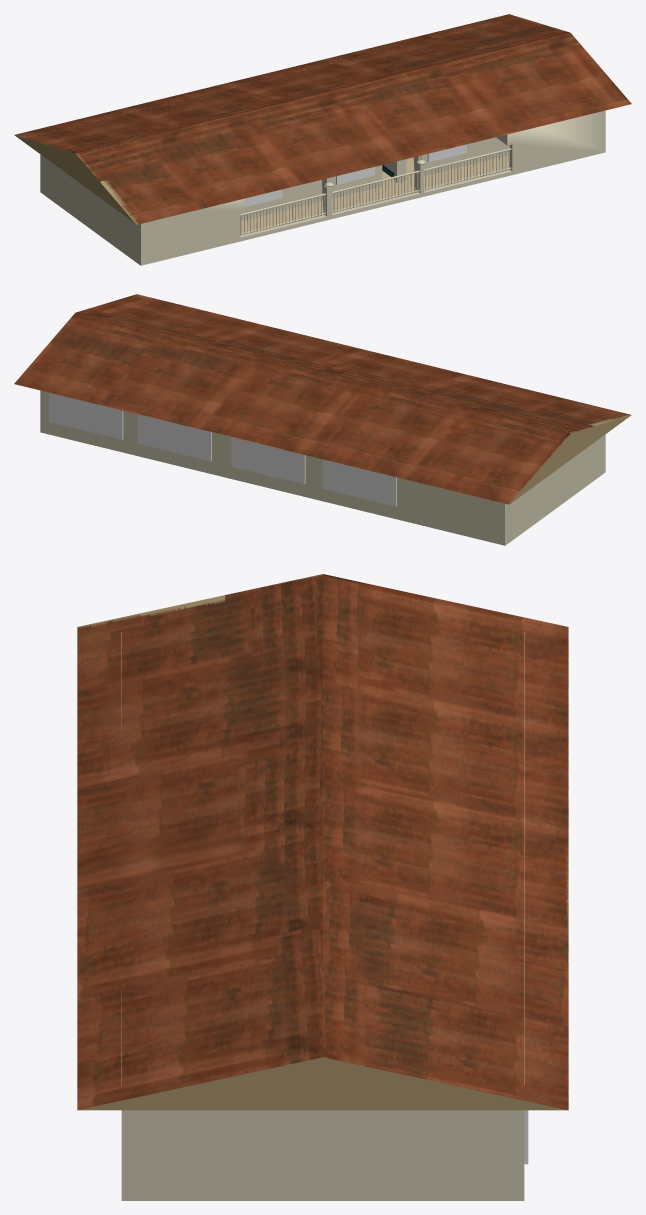
Rendered from 4TH_FLR.fbx.
The picture shows the model from 3 angles, top to bottom: view 1: azimuth 30°, elevation 25°; view 2: azimuth 150°, elevation 25°; view 3: azimuth 270°, elevation 25°; orthographic projection. The views are drawn at different scales.
Parts seen in each view (by area): view 1: Roof, Wall.066, Fence, Wall.065, Hallway Plane, Wall.060, Wall.061, Wall.063, WindowHole.002, WindowHole; view 2: Roof, Wall.067, WindowHole.004, Wall.065; view 3: Roof, Wall.064, Wall.067, Wall.066.
Boxes of the visible parts, box(x1,y1,x2,y2) form: Roof: box(14, 14, 631, 224); Wall.066: box(138, 110, 605, 265); Fence: box(240, 148, 511, 235); Wall.065: box(43, 156, 138, 263); Hallway Plane: box(241, 160, 502, 232); Wall.060: box(403, 137, 509, 180); Wall.061: box(310, 161, 398, 203); Wall.063: box(240, 183, 306, 220); WindowHole.002: box(427, 144, 466, 162); WindowHole: box(336, 167, 375, 184); Roof: box(14, 294, 631, 504); Wall.067: box(40, 390, 507, 545); WindowHole.004: box(49, 392, 396, 506); Wall.065: box(507, 436, 602, 543); Roof: box(77, 574, 568, 1110); Wall.064: box(132, 1110, 513, 1200); Wall.067: box(513, 632, 524, 1200); Wall.066: box(121, 632, 132, 1200).
Bounding box in the file's own units: 2700 × 414 × 1160.
4 materials, 4 textured.
